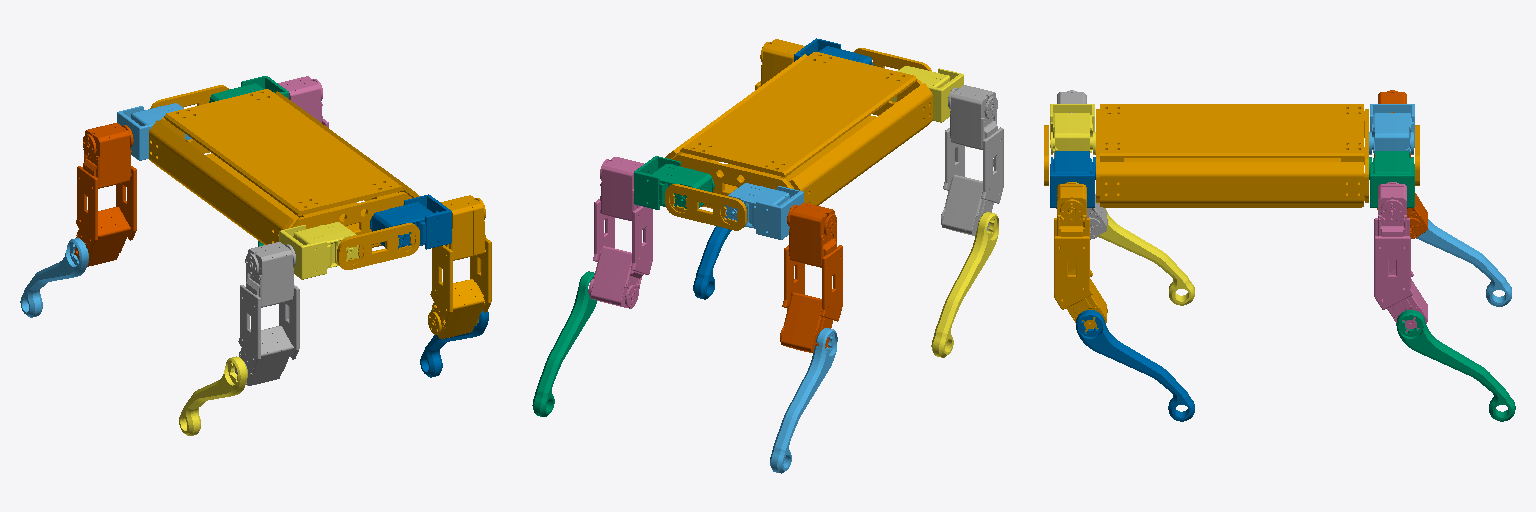
The robot description file, URDF, robot "WAVEGO":
<?xml version="1.0" ?>
<robot name="WAVEGO">

<link name="base_link">
  <inertial>
    <origin xyz="4.629913587071468e-06 0.0008541357983545728 0.02527208057319014" rpy="0 0 0"/>
    <mass value="0.75"/>
    <inertia ixx="0.004576" iyy="0.001514" izz="0.005545" ixy="0.0" iyz="0.0" ixz="0.0"/>
  </inertial>
  <visual>
    <origin xyz="0 0 0" rpy="0 0 0"/>
    <geometry><mesh filename="../meshes/base_link.stl" scale="0.001 0.001 0.001"/></geometry>
    <material name="silver"/>
  </visual>
  <collision>
    <origin xyz="0 0 0" rpy="0 0 0"/>
    <geometry><mesh filename="../meshes/base_link.stl" scale="0.001 0.001 0.001"/></geometry>
  </collision>
</link>

<!-- Hip Links -->
<link name="FL_hip">
  <inertial>
    <origin xyz="-0.02319126187595901 0.01879798849608902 -4.180014100720053e-07" rpy="0 0 0"/>
    <mass value="0.07"/>
    <inertia ixx="1.5e-05" iyy="2.68e-05" izz="3.3e-05" ixy="0.0" iyz="0.0" ixz="0.0"/>
  </inertial>
  <visual>
    <origin xyz="0.0245 -0.114266 -0.025234" rpy="0 0 0"/>
    <geometry><mesh filename="../meshes/FL_hip_1.stl" scale="0.001 0.001 0.001"/></geometry>
    <material name="silver"/>
  </visual>
  <collision>
    <origin xyz="0.0245 -0.114266 -0.025234" rpy="0 0 0"/>
    <geometry><mesh filename="../meshes/FL_hip_1.stl" scale="0.001 0.001 0.001"/></geometry>
  </collision>
</link>

<link name="FR_hip">
  <inertial>
    <origin xyz="0.023191261877654377 0.018797988496071977 -3.5685197443888206e-07" rpy="0 0 0"/>
    <mass value="0.07"/>
    <inertia ixx="1.5e-05" iyy="2.68e-05" izz="3.3e-05" ixy="0.0" iyz="0.0" ixz="0.0"/>
  </inertial>
  <visual>
    <origin xyz="-0.0245 -0.114266 -0.025234" rpy="0 0 0"/>
    <geometry><mesh filename="../meshes/FR_hip_1.stl" scale="0.001 0.001 0.001"/></geometry>
    <material name="silver"/>
  </visual>
  <collision>
    <origin xyz="-0.0245 -0.114266 -0.025234" rpy="0 0 0"/>
    <geometry><mesh filename="../meshes/FR_hip_1.stl" scale="0.001 0.001 0.001"/></geometry>
  </collision>
</link>

<link name="RL_hip">
  <inertial>
    <origin xyz="-0.023191261875960753 -0.018797237818405393 -3.568526728628396e-07" rpy="0 0 0"/>
    <mass value="0.07"/>
    <inertia ixx="1.5e-05" iyy="2.68e-05" izz="3.3e-05" ixy="0.0" iyz="0.0" ixz="0.0"/>
  </inertial>
  <visual>
    <origin xyz="0.0245 0.112734 -0.025234" rpy="0 0 0"/>
    <geometry><mesh filename="../meshes/RL_hip_1.stl" scale="0.001 0.001 0.001"/></geometry>
    <material name="silver"/>
  </visual>
  <collision>
    <origin xyz="0.0245 0.112734 -0.025234" rpy="0 0 0"/>
    <geometry><mesh filename="../meshes/RL_hip_1.stl" scale="0.001 0.001 0.001"/></geometry>
  </collision>
</link>

<link name="RR_hip">
  <inertial>
    <origin xyz="0.023191261877654294 -0.018797237818421075 -4.1800070709613335e-07" rpy="0 0 0"/>
    <mass value="0.07"/>
    <inertia ixx="1.5e-05" iyy="2.68e-05" izz="3.3e-05" ixy="0.0" iyz="0.0" ixz="0.0"/>
  </inertial>
  <visual>
    <origin xyz="-0.0245 0.112734 -0.025234" rpy="0 0 0"/>
    <geometry><mesh filename="../meshes/RR_hip_1.stl" scale="0.001 0.001 0.001"/></geometry>
    <material name="silver"/>
  </visual>
  <collision>
    <origin xyz="-0.0245 0.112734 -0.025234" rpy="0 0 0"/>
    <geometry><mesh filename="../meshes/RR_hip_1.stl" scale="0.001 0.001 0.001"/></geometry>
  </collision>
</link>

<!-- Thigh Links -->
<link name="FL_thigh">
  <inertial>
    <origin xyz="-0.01970845141862286 0.0028015258976535895 -0.052315121957901674" rpy="0 0 0"/>
    <mass value="0.12"/>
    <inertia ixx="0.000153" iyy="0.000167" izz="3.5e-05" ixy="0.0" iyz="0.0" ixz="0.0"/>
  </inertial>
  <visual>
    <origin xyz="0.071 -0.133866 -0.025234" rpy="0 0 0"/>
    <geometry><mesh filename="../meshes/FL_thigh_1.stl" scale="0.001 0.001 0.001"/></geometry>
    <material name="silver"/>
  </visual>
  <collision>
    <origin xyz="0.071 -0.133866 -0.025234" rpy="0 0 0"/>
    <geometry><mesh filename="../meshes/FL_thigh_1.stl" scale="0.001 0.001 0.001"/></geometry>
  </collision>
</link>

<link name="FR_thigh">
  <inertial>
    <origin xyz="0.019708452445206706 0.0027932494546228648 -0.05231812285470108" rpy="0 0 0"/>
    <mass value="0.12"/>
    <inertia ixx="0.000153" iyy="0.000167" izz="3.5e-05" ixy="0.0" iyz="0.0" ixz="0.0"/>
  </inertial>
  <visual>
    <origin xyz="-0.071 -0.133866 -0.025234" rpy="0 0 0"/>
    <geometry><mesh filename="../meshes/FR_thigh_1.stl" scale="0.001 0.001 0.001"/></geometry>
    <material name="silver"/>
  </visual>
  <collision>
    <origin xyz="-0.071 -0.133866 -0.025234" rpy="0 0 0"/>
    <geometry><mesh filename="../meshes/FR_thigh_1.stl" scale="0.001 0.001 0.001"/></geometry>
  </collision>
</link>

<link name="RL_thigh">
  <inertial>
    <origin xyz="-0.019708452443622543 0.002801526868147386 -0.052315136197844156" rpy="0 0 0"/>
    <mass value="0.12"/>
    <inertia ixx="0.000153" iyy="0.000167" izz="3.5e-05" ixy="0.0" iyz="0.0" ixz="0.0"/>
  </inertial>
  <visual>
    <origin xyz="0.071 0.132334 -0.025234" rpy="0 0 0"/>
    <geometry><mesh filename="../meshes/RL_thigh_1.stl" scale="0.001 0.001 0.001"/></geometry>
    <material name="silver"/>
  </visual>
  <collision>
    <origin xyz="0.071 0.132334 -0.025234" rpy="0 0 0"/>
    <geometry><mesh filename="../meshes/RL_thigh_1.stl" scale="0.001 0.001 0.001"/></geometry>
  </collision>
</link>

<link name="RR_thigh">
  <inertial>
    <origin xyz="0.019708452445206706 0.002793249454622948 -0.052318122854697884" rpy="0 0 0"/>
    <mass value="0.12"/>
    <inertia ixx="0.000153" iyy="0.000167" izz="3.5e-05" ixy="0.0" iyz="0.0" ixz="0.0"/>
  </inertial>
  <visual>
    <origin xyz="-0.071 0.132334 -0.025234" rpy="0 0 0"/>
    <geometry><mesh filename="../meshes/RR_thigh_1.stl" scale="0.001 0.001 0.001"/></geometry>
    <material name="silver"/>
  </visual>
  <collision>
    <origin xyz="-0.071 0.132334 -0.025234" rpy="0 0 0"/>
    <geometry><mesh filename="../meshes/RR_thigh_1.stl" scale="0.001 0.001 0.001"/></geometry>
  </collision>
</link>

<!-- Calf Links -->
<link name="FL_calf">
  <inertial>
    <origin xyz="-0.004499999876559219 0.037277144723405264 -0.03580328685629376" rpy="0 0 0"/>
    <mass value="0.02"/>
    <inertia ixx="2.7e-05" iyy="1.2e-05" izz="1.5e-05" ixy="0.0" iyz="0.0" ixz="0.0"/>
  </inertial>
  <visual>
    <origin xyz="0.1062 -0.146588 0.075767" rpy="0 0 0"/>
    <geometry><mesh filename="../meshes/FL_calf_1.stl" scale="0.001 0.001 0.001"/></geometry>
    <material name="silver"/>
  </visual>
  <collision>
    <origin xyz="0.1062 -0.146588 0.075767" rpy="0 0 0"/>
    <geometry><mesh filename="../meshes/FL_calf_1.stl" scale="0.001 0.001 0.001"/></geometry>
  </collision>
</link>

<link name="FR_calf">
  <inertial>
    <origin xyz="0.004499999880704333 0.03727393846783095 -0.03580662749063558" rpy="0 0 0"/>
    <mass value="0.02"/>
    <inertia ixx="2.7e-05" iyy="1.2e-05" izz="1.5e-05" ixy="0.0" iyz="0.0" ixz="0.0"/>
  </inertial>
  <visual>
    <origin xyz="-0.1102 -0.149161 0.075814" rpy="0 0 0"/>
    <geometry><mesh filename="../meshes/FR_calf_1.stl" scale="0.001 0.001 0.001"/></geometry>
    <material name="silver"/>
  </visual>
  <collision>
    <origin xyz="-0.1102 -0.149161 0.075814" rpy="0 0 0"/>
    <geometry><mesh filename="../meshes/FR_calf_1.stl" scale="0.001 0.001 0.001"/></geometry>
  </collision>
</link>

<link name="RL_calf">
  <inertial>
    <origin xyz="-0.002999999876561424 0.037276868216588835 -0.035803204648581874" rpy="0 0 0"/>
    <mass value="0.02"/>
    <inertia ixx="2.7e-05" iyy="1.2e-05" izz="1.5e-05" ixy="0.0" iyz="0.0" ixz="0.0"/>
  </inertial>
  <visual>
    <origin xyz="0.1102 0.117012 0.075805" rpy="0 0 0"/>
    <geometry><mesh filename="../meshes/RL_calf_1.stl" scale="0.001 0.001 0.001"/></geometry>
    <material name="silver"/>
  </visual>
  <collision>
    <origin xyz="0.1102 0.117012 0.075805" rpy="0 0 0"/>
    <geometry><mesh filename="../meshes/RL_calf_1.stl" scale="0.001 0.001 0.001"/></geometry>
  </collision>
</link>

<link name="RR_calf">
  <inertial>
    <origin xyz="0.0044999998807064845 0.03727393846783113 -0.03580662749063199" rpy="0 0 0"/>
    <mass value="0.02"/>
    <inertia ixx="2.7e-05" iyy="1.2e-05" izz="1.5e-05" ixy="0.0" iyz="0.0" ixz="0.0"/>
  </inertial>
  <visual>
    <origin xyz="-0.1102 0.117039 0.075814" rpy="0 0 0"/>
    <geometry><mesh filename="../meshes/RR_calf_1.stl" scale="0.001 0.001 0.001"/></geometry>
    <material name="silver"/>
  </visual>
  <collision>
    <origin xyz="-0.1102 0.117039 0.075814" rpy="0 0 0"/>
    <geometry><mesh filename="../meshes/RR_calf_1.stl" scale="0.001 0.001 0.001"/></geometry>
  </collision>
</link>

<!-- Joints -->
<joint name="FL_hip_joint" type="revolute">
  <origin xyz="-0.0245 0.114266 0.025234" rpy="0 0 0"/>
  <parent link="base_link"/><child link="FL_hip"/><axis xyz="0.0 -1.0 0.0"/>
  <limit upper="0.523599" lower="-0.523599" effort="1.96" velocity="11.1"/>
  <dynamics friction="0.4" damping="0.5"/>
</joint>

<joint name="FR_hip_joint" type="revolute">
  <origin xyz="0.0245 0.114266 0.025234" rpy="0 0 0"/>
  <parent link="base_link"/><child link="FR_hip"/><axis xyz="0.0 -1.0 -0.0"/>
  <limit upper="0.523599" lower="-0.523599" effort="1.96" velocity="11.1"/>
  <dynamics friction="0.4" damping="0.5"/>
</joint>

<joint name="RL_hip_joint" type="revolute">
  <origin xyz="-0.0245 -0.112734 0.025234" rpy="0 0 0"/>
  <parent link="base_link"/><child link="RL_hip"/><axis xyz="0.0 1.0 0.0"/>
  <limit upper="0.523599" lower="-0.523599" effort="1.96" velocity="11.1"/>
  <dynamics friction="0.4" damping="0.5"/>
</joint>

<joint name="RR_hip_joint" type="revolute">
  <origin xyz="0.0245 -0.112734 0.025234" rpy="0 0 0"/>
  <parent link="base_link"/><child link="RR_hip"/><axis xyz="0.0 1.0 0.0"/>
  <limit upper="0.523599" lower="-0.523599" effort="1.96" velocity="11.1"/>
  <dynamics friction="0.4" damping="0.5"/>
</joint>

<joint name="FL_thigh_joint" type="revolute">
  <origin xyz="-0.0465 0.0196 0.0" rpy="0 0 0"/>
  <parent link="FL_hip"/><child link="FL_thigh"/><axis xyz="1.0 -0.0 -0.0"/>
  <limit upper="2.094395" lower="-2.094395" effort="1.96" velocity="11.1"/>
  <dynamics friction="0.4" damping="0.5"/>
</joint>

<joint name="FR_thigh_joint" type="revolute">
  <origin xyz="0.0465 0.0196 0.0" rpy="0 0 0"/>
  <parent link="FR_hip"/><child link="FR_thigh"/><axis xyz="-1.0 0.0 0.0"/>
  <limit upper="2.094395" lower="-2.094395" effort="1.96" velocity="11.1"/>
  <dynamics friction="0.4" damping="0.5"/>
</joint>

<joint name="RL_thigh_joint" type="revolute">
  <origin xyz="-0.0465 -0.0196 0.0" rpy="0 0 0"/>
  <parent link="RL_hip"/><child link="RL_thigh"/><axis xyz="1.0 -0.0 -0.0"/>
  <limit upper="2.094395" lower="-2.094395" effort="1.96" velocity="11.1"/>
  <dynamics friction="0.4" damping="0.5"/>
</joint>

<joint name="RR_thigh_joint" type="revolute">
  <origin xyz="0.0465 -0.0196 0.0" rpy="0 0 0"/>
  <parent link="RR_hip"/><child link="RR_thigh"/><axis xyz="-1.0 0.0 0.0"/>
  <limit upper="2.094395" lower="-2.094395" effort="1.96" velocity="11.1"/>
  <dynamics friction="0.4" damping="0.5"/>
</joint>

<joint name="FL_calf_joint" type="revolute">
  <origin xyz="-0.0352 0.012722 -0.101001" rpy="0 0 0"/>
  <parent link="FL_thigh"/><child link="FL_calf"/><axis xyz="1.0 0.0 0.0"/>
  <limit upper="2.094395" lower="-2.094395" effort="1.96" velocity="11.1"/>
  <dynamics friction="0.4" damping="0.5"/>
</joint>

<joint name="FR_calf_joint" type="revolute">
  <origin xyz="0.0392 0.015295 -0.101048" rpy="0 0 0"/>
  <parent link="FR_thigh"/><child link="FR_calf"/><axis xyz="-1.0 0.0 0.0"/>
  <limit upper="2.094395" lower="-2.094395" effort="1.96" velocity="11.1"/>
  <dynamics friction="0.4" damping="0.5"/>
</joint>

<joint name="RL_calf_joint" type="revolute">
  <origin xyz="-0.0392 0.015322 -0.101039" rpy="0 0 0"/>
  <parent link="RL_thigh"/><child link="RL_calf"/><axis xyz="1.0 0.0 0.0"/>
  <limit upper="2.094395" lower="-2.094395" effort="1.96" velocity="11.1"/>
  <dynamics friction="0.4" damping="0.5"/>
</joint>

<joint name="RR_calf_joint" type="revolute">
  <origin xyz="0.0392 0.015295 -0.101048" rpy="0 0 0"/>
  <parent link="RR_thigh"/><child link="RR_calf"/><axis xyz="-1.0 0.0 -0.0"/>
  <limit upper="2.094395" lower="-2.094395" effort="1.96" velocity="11.1"/>
  <dynamics friction="0.4" damping="0.5"/>
</joint>

</robot>

--- Facts derived from the render (not from the file) ---
Views: 3 orthographic renders of the robot side by side, from view 1: azimuth 30°, elevation 25°; view 2: azimuth 150°, elevation 25°; view 3: azimuth 270°, elevation 25°.
Robot: WAVEGO — 13 links, 12 joints (12 revolute); root link base_link; default pose: all joints at 0.
Links seen in each view (by area): view 1: base_link, RL_thigh, FL_thigh, RR_thigh, RL_hip, RR_hip, RL_calf, FL_calf, FL_hip, FR_thigh, RR_calf, FR_hip; view 2: base_link, FL_thigh, RL_thigh, FR_thigh, RL_calf, FL_calf, FL_hip, FR_hip, FR_calf, RL_hip, RR_calf, RR_thigh (+1 smaller); view 3: base_link, FR_thigh, RR_thigh, RR_calf, FR_calf, FL_hip, RL_hip, RL_calf, FL_calf, FR_hip, RR_hip, FL_thigh (+1 smaller).
Link boxes in pixels (left/top/right/bottom): base_link: left=149, top=85, right=419, bottom=269; RL_thigh: left=235, top=242, right=299, bottom=385; FL_thigh: left=74, top=123, right=136, bottom=266; RR_thigh: left=428, top=195, right=491, bottom=338; RL_hip: left=279, top=222, right=358, bottom=279; RR_hip: left=370, top=194, right=451, bottom=249; RL_calf: left=179, top=356, right=247, bottom=435; FL_calf: left=20, top=238, right=88, bottom=317; FL_hip: left=117, top=103, right=191, bottom=160; FR_thigh: left=278, top=76, right=328, bottom=127; RR_calf: left=420, top=310, right=488, bottom=377; FR_hip: left=209, top=76, right=288, bottom=102; base_link: left=665, top=48, right=932, bottom=230; FL_thigh: left=780, top=203, right=842, bottom=352; RL_thigh: left=941, top=85, right=1003, bottom=235; FR_thigh: left=588, top=157, right=652, bottom=308; RL_calf: left=931, top=212, right=998, bottom=357; FL_calf: left=770, top=328, right=837, bottom=473; FL_hip: left=725, top=183, right=803, bottom=239; FR_hip: left=634, top=156, right=714, bottom=209; FR_calf: left=532, top=271, right=596, bottom=416; RL_hip: left=890, top=66, right=963, bottom=122; RR_calf: left=693, top=226, right=731, bottom=299; RR_thigh: left=755, top=39, right=804, bottom=89; base_link: left=1044, top=104, right=1419, bottom=207; FR_thigh: left=1374, top=182, right=1427, bottom=331; RR_thigh: left=1054, top=182, right=1107, bottom=331; RR_calf: left=1076, top=310, right=1194, bottom=421; FR_calf: left=1396, top=310, right=1515, bottom=421; FL_hip: left=1369, top=104, right=1414, bottom=154; RL_hip: left=1050, top=104, right=1095, bottom=154; RL_calf: left=1098, top=208, right=1194, bottom=305; FL_calf: left=1416, top=219, right=1511, bottom=306; FR_hip: left=1369, top=151, right=1414, bottom=207; RR_hip: left=1050, top=151, right=1095, bottom=207; FL_thigh: left=1374, top=90, right=1427, bottom=238.
Bounding box of the posed robot: 0.2399 × 0.3911 × 0.2137 m (x, y, z).
13 mesh visuals loaded from 13 distinct referenced files (13 binary STL).
